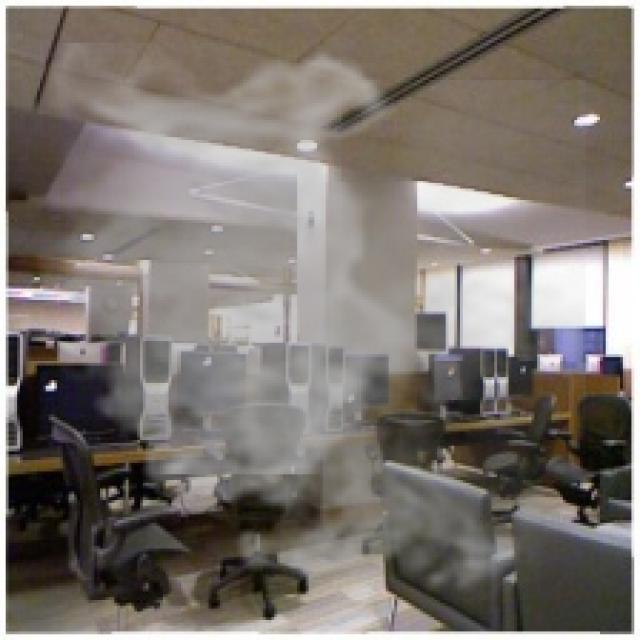smoke: (17, 43, 586, 608)
